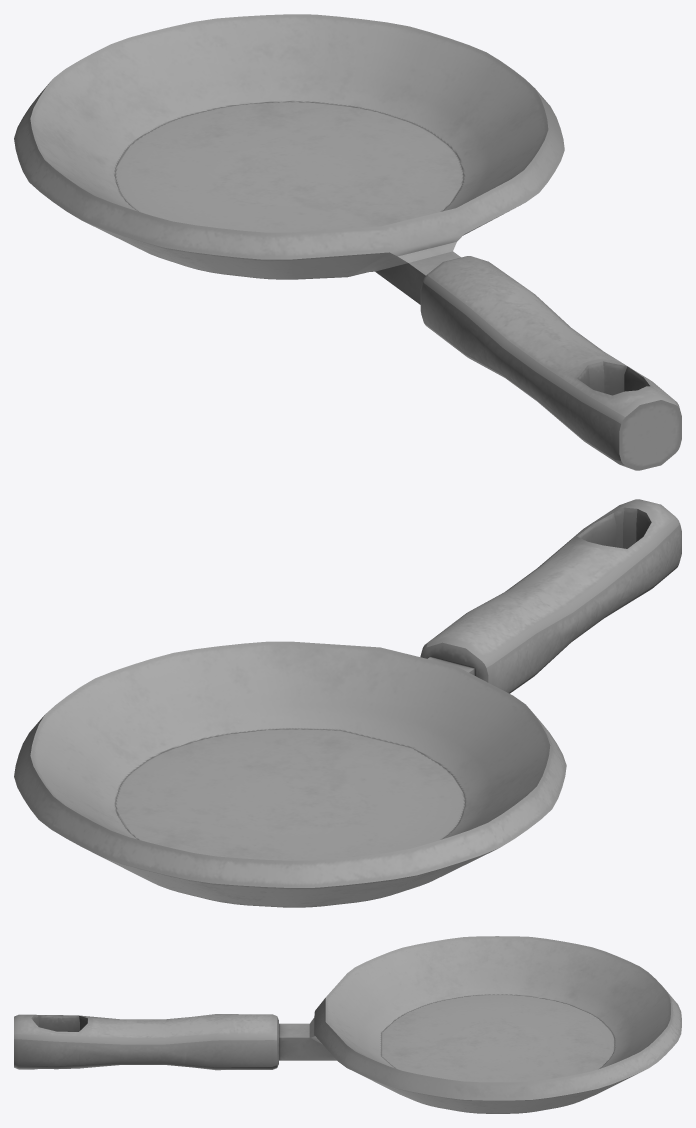
Rendered from pan.fbx.
The picture shows the model from 3 angles, top to bottom: view 1: azimuth 30°, elevation 25°; view 2: azimuth 150°, elevation 25°; view 3: azimuth 270°, elevation 25°; orthographic projection. The views are drawn at different scales.
Parts seen in each view (by area): view 1: teflon pan; view 2: teflon pan; view 3: teflon pan.
Boxes of the visible parts, <box> form: teflon pan: <box>14,14,681,470</box>; teflon pan: <box>14,499,681,907</box>; teflon pan: <box>14,936,681,1113</box>.
Size of the model in its own units: 95.02 by 16.07 by 173.
